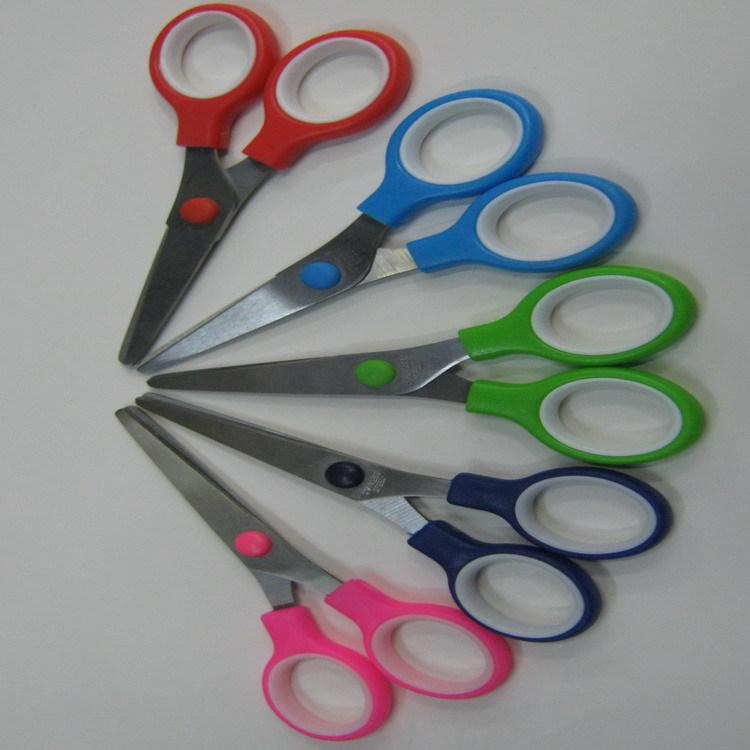scissor: (138, 1, 707, 737)
